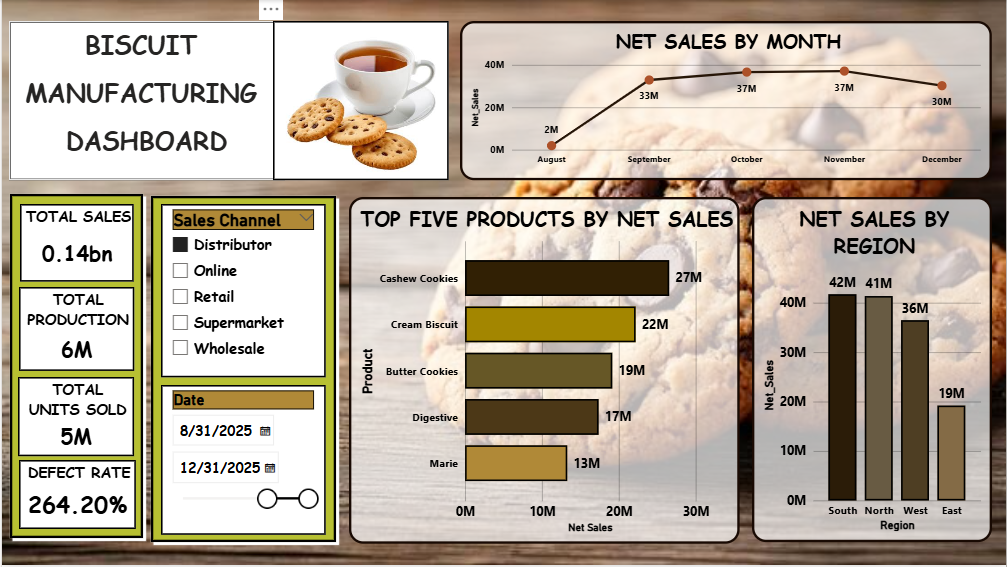

The dashboard page shown, as its layout file describes it:
{"tool":"powerbi","page":{"name":"Executive Overview","canvas":[1280,720],"ordinal":0},"visuals":[{"type":"textbox","box":[8.9,26.8,350.6,202.7],"z":0},{"type":"image","box":[345.5,26.8,224.4,202.7],"z":1000},{"type":"lineChart","title":"NET SALES BY MONTH","fields":{"Category":["Biscuit_Manufacturing_1000_Records.Date.Variation.Date Hierarchy.Month"],"Y":["Sum(Biscuit_Manufacturing_1000_Records.Net_Sales)"]},"box":[583.9,26.8,678.2,202.7],"z":2000},{"type":"clusteredColumnChart","title":"NET SALES BY REGION","fields":{"Category":["Biscuit_Manufacturing_1000_Records.Region"],"Y":["Sum(Biscuit_Manufacturing_1000_Records.Net_Sales)"]},"box":[956.2,251.2,306,439.8],"z":3000},{"type":"clusteredBarChart","title":"TOP FIVE  PRODUCTS BY NET SALES","fields":{"Category":["Biscuit_Manufacturing_1000_Records.Product"],"Y":["Sum(Biscuit_Manufacturing_1000_Records.Net_Sales)"]},"box":[442.4,251.2,498.5,442.4],"z":4000},{"type":"shape","box":[5.1,242.2,179.8,448.8],"z":5000},{"type":"card","title":"TOTAL SALES","fields":{"Values":["Sum(Biscuit_Manufacturing_1000_Records.Net_Sales)"]},"box":[22.9,260.1,145.3,99.4],"z":6000},{"type":"card","title":"TOTAL PRODUCTION","fields":{"Values":["Sum(Biscuit_Manufacturing_1000_Records.Units_Produced)"]},"box":[21.7,365.9,146.6,107.1],"z":7000},{"type":"card","title":"TOTAL UNITS SOLD","fields":{"Values":["Sum(Biscuit_Manufacturing_1000_Records.Units_Sold)"]},"box":[20.4,480.6,147.9,100.7],"z":8000},{"type":"card","title":"DEFECT RATE","fields":{"Values":["Biscuit_Manufacturing_1000_Records.Defect_rate"]},"box":[21.7,586.5,149.2,88],"z":9000},{"type":"shape","box":[184.9,244.8,246.1,451.3],"z":10000},{"type":"slicer","fields":{"Values":["Biscuit_Manufacturing_1000_Records.Date"]},"box":[202.7,490.8,210.4,191.2],"z":11000},{"type":"slicer","fields":{"Values":["Biscuit_Manufacturing_1000_Records.Sales_Channel"]},"box":[202.7,260.1,210.4,220.6],"z":12000}]}

Visuals, with their boxes in screenshot pixels (x1, y1, x2, y2), scaled from the page's 1280x720 canvas onto the 1007x567 screenshot:
textbox: box=[7, 21, 283, 181]
image: box=[272, 21, 448, 181]
"NET SALES BY MONTH" lineChart: box=[459, 21, 993, 181]
"NET SALES BY REGION" clusteredColumnChart: box=[752, 198, 993, 544]
"TOP FIVE  PRODUCTS BY NET SALES" clusteredBarChart: box=[348, 198, 740, 546]
shape: box=[4, 191, 145, 544]
"TOTAL SALES" card: box=[18, 205, 132, 283]
"TOTAL PRODUCTION" card: box=[17, 288, 132, 372]
"TOTAL UNITS SOLD" card: box=[16, 378, 132, 458]
"DEFECT RATE" card: box=[17, 462, 134, 531]
shape: box=[145, 193, 339, 548]
slicer - Biscuit_Manufacturing_1000_Records.Date: box=[159, 387, 325, 537]
slicer - Biscuit_Manufacturing_1000_Records.Sales_Channel: box=[159, 205, 325, 379]
